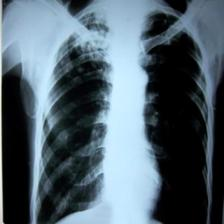tuberculosis: (28, 0, 212, 224)
